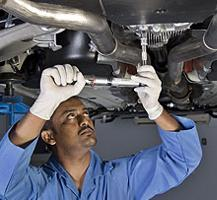person: (1, 60, 203, 200)
